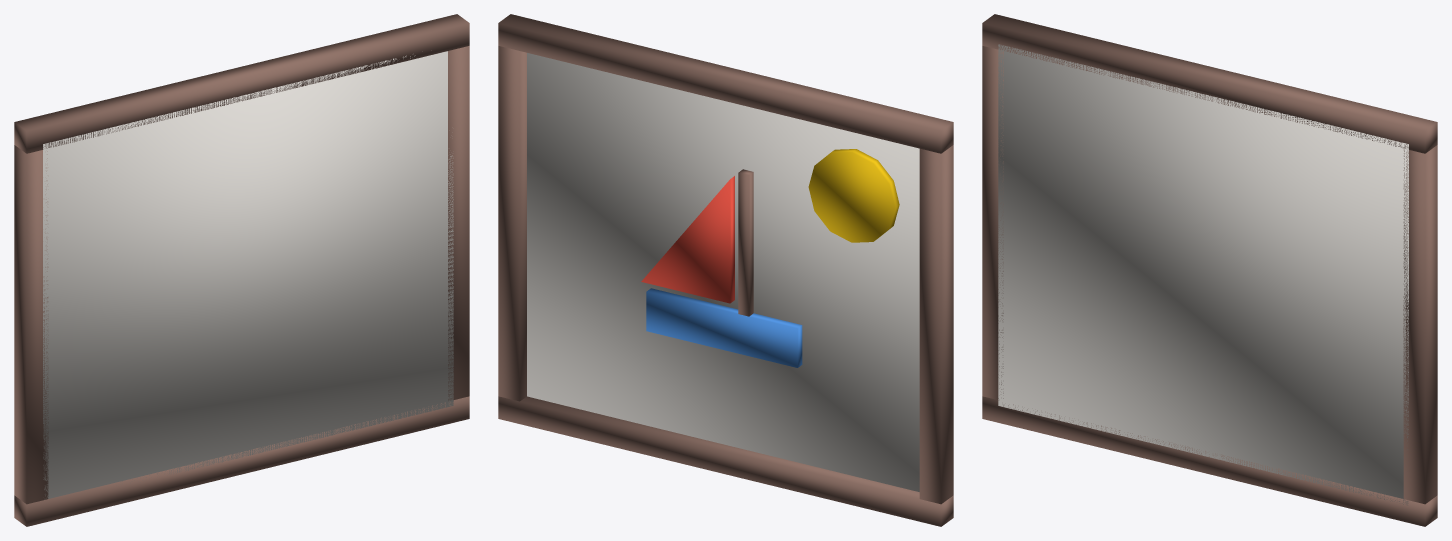
File: cuadro_infantil.glb
3 views of the same model, side by side, from view 1: azimuth 30°, elevation 25°; view 2: azimuth 150°, elevation 25°; view 3: azimuth 330°, elevation 25° (orthographic).
Parts seen in each view (by area): view 1: cuadro_infantil; view 2: cuadro_infantil; view 3: cuadro_infantil.
Boxes of the visible parts, left/top/right/bottom form: cuadro_infantil: left=14, top=14, right=469, bottom=526; cuadro_infantil: left=498, top=14, right=953, bottom=526; cuadro_infantil: left=982, top=14, right=1437, bottom=526.
Size of the model in its own units: 0.82 by 0.7 by 0.04.
